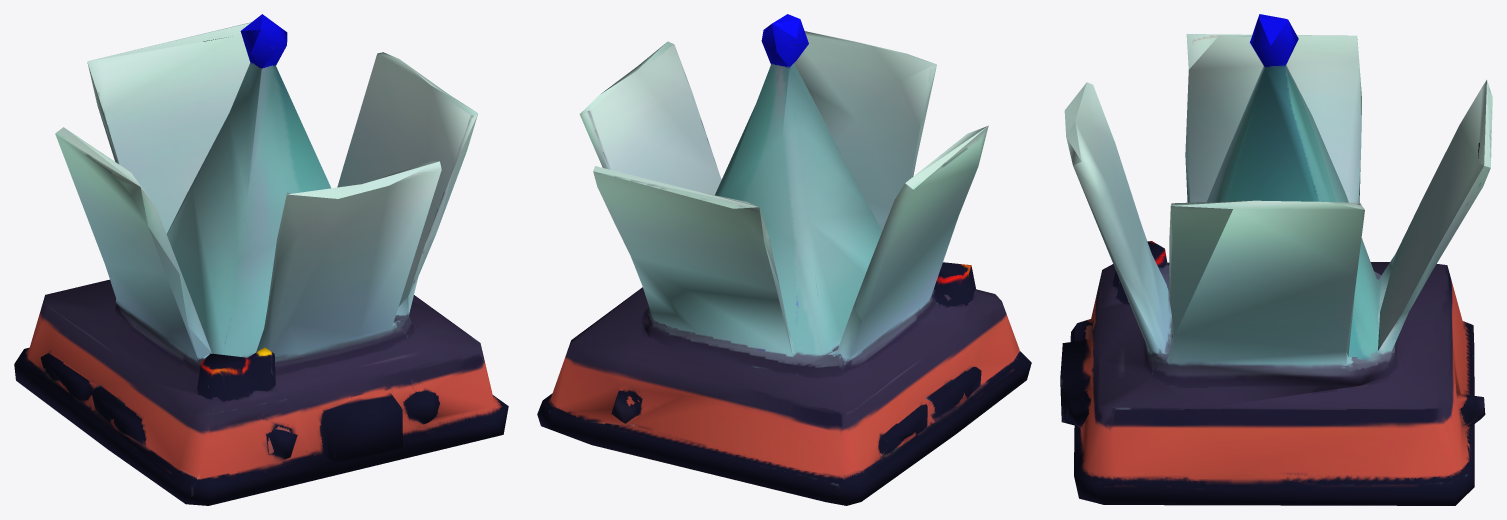
File: hologram-projector.glb
The picture shows the model from 3 angles, left to right: view 1: azimuth 30°, elevation 25°; view 2: azimuth 150°, elevation 25°; view 3: azimuth 270°, elevation 25°; orthographic projection. The views are drawn at different scales.
Parts seen in each view (by area): view 1: geometry_0.001; view 2: geometry_0.001; view 3: geometry_0.001.
Boxes of the visible parts, x1,y1,x2,y2 form: geometry_0.001: (14,14,508,505); geometry_0.001: (537,14,1031,505); geometry_0.001: (1060,14,1492,505).
Bounding box in the file's own units: 0.9098 × 0.9973 × 0.9603.
1 material, 1 textured.
